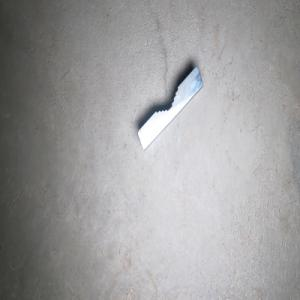ClampPart: (136, 63, 204, 151)
